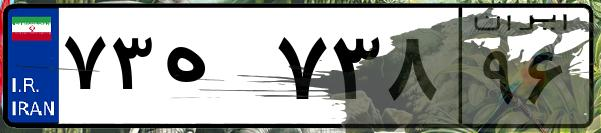3: (330, 28, 385, 110), (110, 28, 158, 98)
6: (525, 38, 570, 115)
7: (270, 28, 330, 110), (57, 26, 110, 100)
8: (385, 28, 445, 110)
9: (475, 38, 525, 113)
ه: (158, 20, 270, 120)
